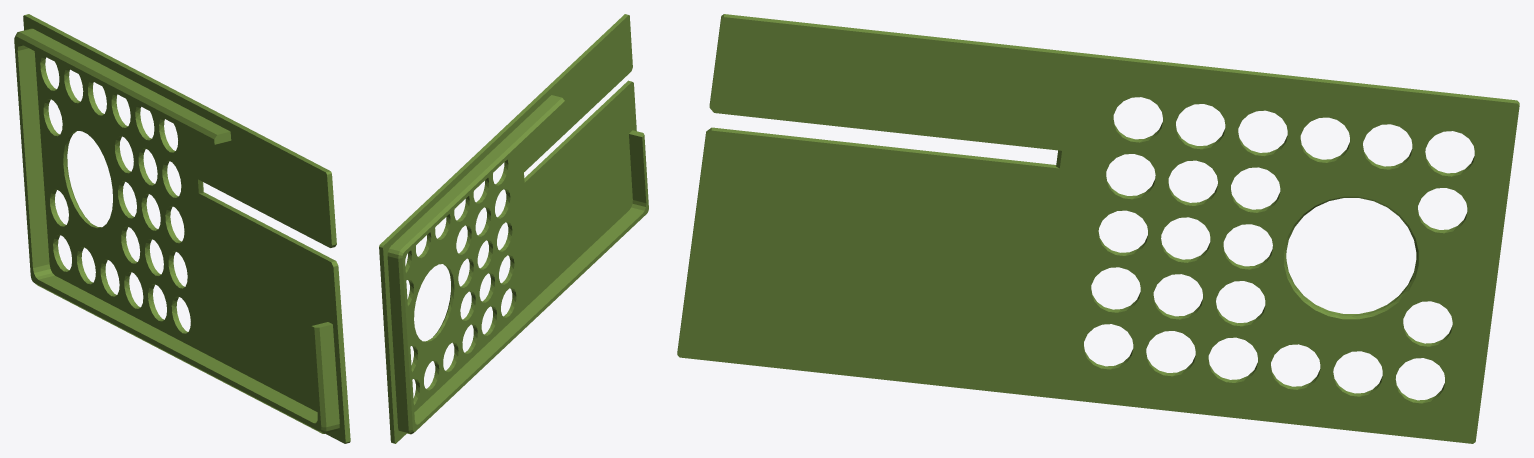
The model's file is converted_Downdraft_Assy_10_739440ff.obj.
The picture shows the model from 3 angles, left to right: view 1: azimuth 30°, elevation 25°; view 2: azimuth 150°, elevation 25°; view 3: azimuth 270°, elevation 25°; orthographic projection. The views are drawn at different scales.
Size of the model in its own units: 0.0148 by 0.1865 by 0.3352.
